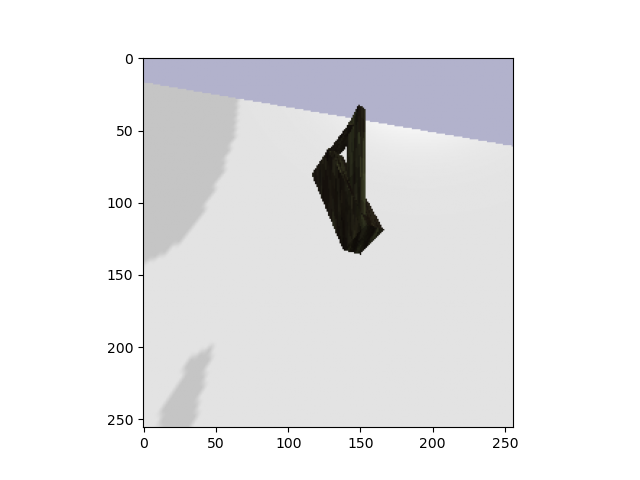v249b387_109: (305, 102, 389, 258)
